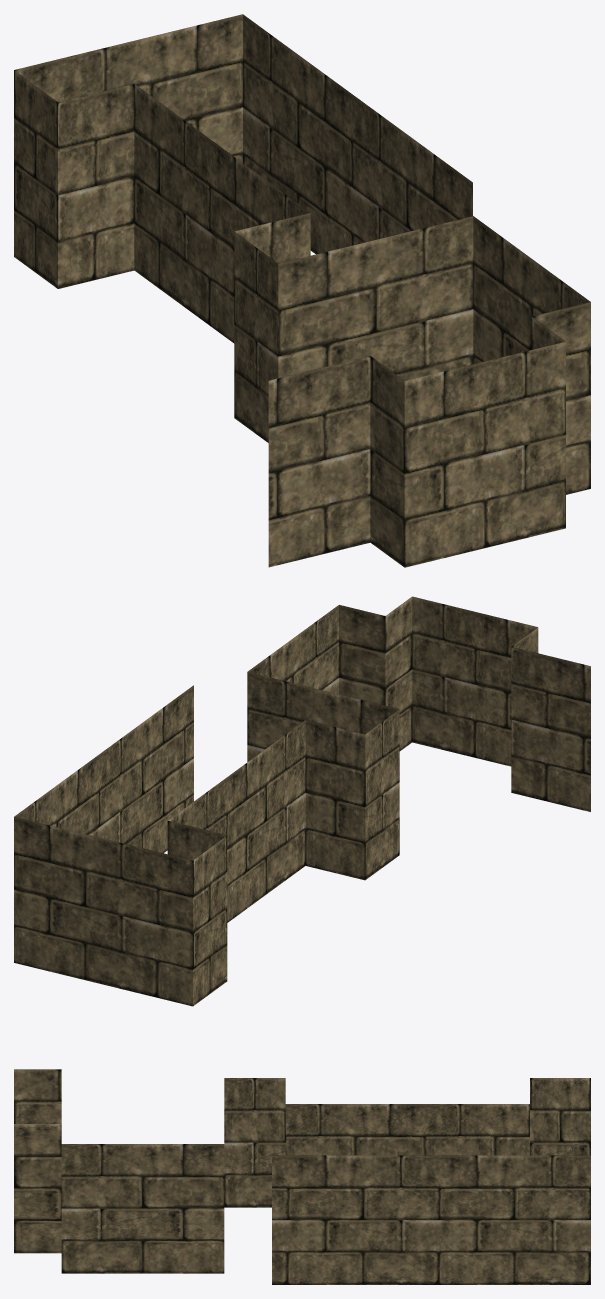
The model's file is OVERHILL_A_01_LINE150.fbx.
The picture shows the model from 3 angles, top to bottom: view 1: azimuth 30°, elevation 25°; view 2: azimuth 150°, elevation 25°; view 3: azimuth 270°, elevation 25°; orthographic projection. The views are drawn at different scales.
Parts seen in each view (by area): view 1: OVERHILL_A_01_LINE150; view 2: OVERHILL_A_01_LINE150; view 3: OVERHILL_A_01_LINE150.
Boxes of the visible parts, left/top/right/bottom form: OVERHILL_A_01_LINE150: left=14, top=14, right=590, bottom=567; OVERHILL_A_01_LINE150: left=14, top=596, right=590, bottom=1006; OVERHILL_A_01_LINE150: left=14, top=1069, right=590, bottom=1284.
Size of the model in its own units: 42000 by 21050 by 85000.
Materials: 1 (1 with a texture image).
